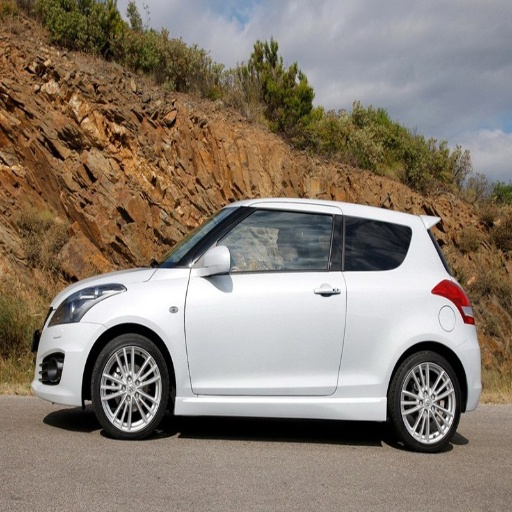back_left_door: (342, 216, 372, 325)
front_left_door: (185, 210, 344, 393)
trunk: (360, 335, 397, 395)
